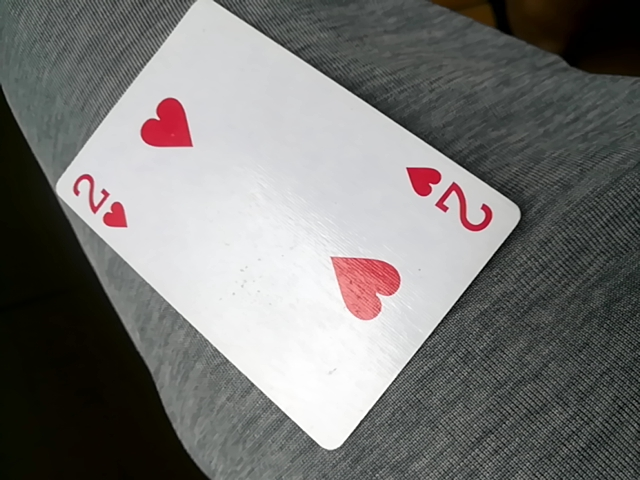hx 2: (50, 2, 525, 455)
